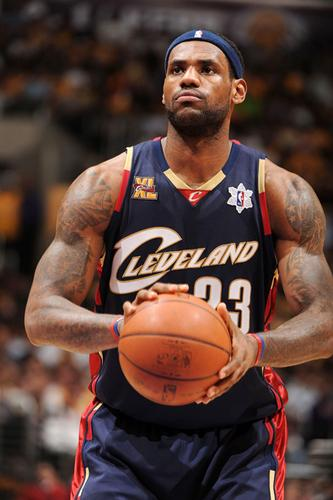ball: (118, 291, 233, 406)
